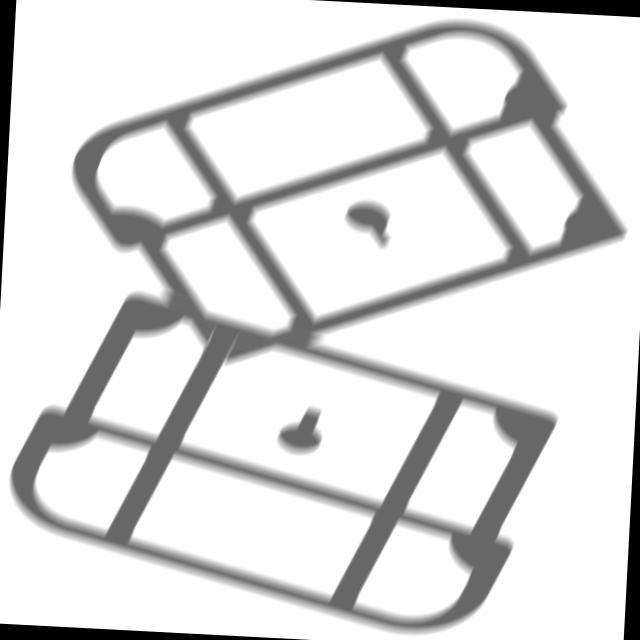treasure_box: (56, 1, 640, 394), (1, 279, 572, 640)
